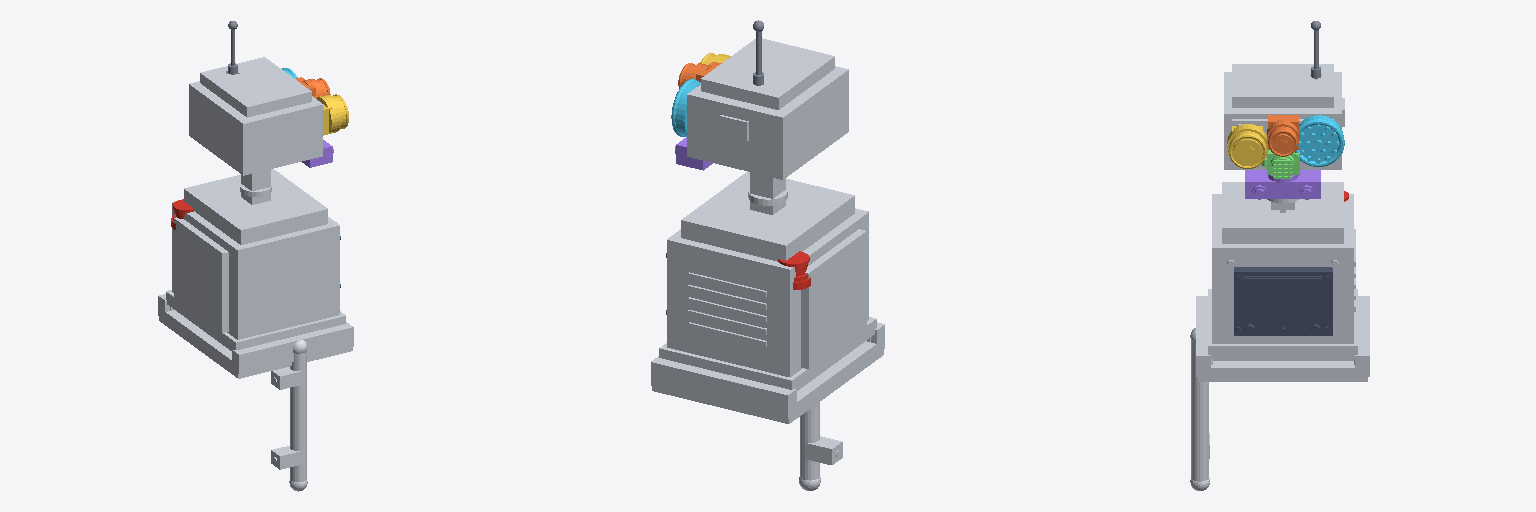
robot.urdf — bravebot:
<?xml version="1.0" ?>
<robot name="bravebot">
  <link name="base_link">
    <visual>
      <origin xyz="0 0 0" rpy="0 0 0"/>
      <geometry>
        <mesh filename="../meshes/tron1/base_Link.stl"/>
      </geometry>
      <material name="base_link_mat">
        <color rgba="0.8 0.82 0.86 1"/>
      </material>
    </visual>
    <collision>
      <origin xyz="0 0 0" rpy="0 0 0"/>
      <geometry>
        <mesh filename="../meshes/tron1/base_Link.stl"/>
      </geometry>
    </collision>
    <inertial>
      <origin xyz="0.04576 0.00014 -0.16398" rpy="0 0 0"/>
      <mass value="9.5850"/>
      <inertia ixx="0.140110" iyy="0.110641" izz="0.098945" ixy="0.000535" ixz="0.028184" iyz="-0.000027"/>
    </inertial>
  </link>
  <link name="abadL_link">
    <visual>
      <origin xyz="0 0 0" rpy="0 0 0"/>
      <geometry>
        <mesh filename="../meshes/tron1/abad_L_Link.stl"/>
      </geometry>
      <material name="abadL_link_mat">
        <color rgba="0.6 0.64 0.7 1"/>
      </material>
    </visual>
    <collision>
      <origin xyz="0 0 0" rpy="0 0 0"/>
      <geometry>
        <mesh filename="../meshes/tron1/abad_L_Link.stl"/>
      </geometry>
    </collision>
    <inertial>
      <origin xyz="-0.06977 0.04479 0.00057" rpy="0 0 0"/>
      <mass value="1.4690"/>
      <inertia ixx="0.001555" iyy="0.002359" izz="0.002081" ixy="0.000398" ixz="-0.000013" iyz="-0.000001"/>
    </inertial>
  </link>
  <joint name="abad_L" type="revolute">
    <parent link="base_link"/>
    <child link="abadL_link"/>
    <origin xyz="0.05556 0.105 -0.2602" rpy="0 0 0"/>
    <axis xyz="1 0 0"/>
    <limit lower="-0.38397" upper="1.39626" effort="80" velocity="15"/>
  </joint>
  <link name="hipL_link">
    <visual>
      <origin xyz="0 0 0" rpy="0 0 0"/>
      <geometry>
        <mesh filename="../meshes/tron1/hip_L_Link.stl"/>
      </geometry>
      <material name="hipL_link_mat">
        <color rgba="0.6 0.64 0.7 1"/>
      </material>
    </visual>
    <collision>
      <origin xyz="0 0 0" rpy="0 0 0"/>
      <geometry>
        <mesh filename="../meshes/tron1/hip_L_Link.stl"/>
      </geometry>
    </collision>
    <inertial>
      <origin xyz="-0.02869 -0.0477 -0.03992" rpy="0 0 0"/>
      <mass value="2.3000"/>
      <inertia ixx="0.016937" iyy="0.022853" izz="0.009334" ixy="0.001647" ixz="-0.009233" iyz="0.002202"/>
    </inertial>
  </link>
  <joint name="hip_L" type="revolute">
    <parent link="abadL_link"/>
    <child link="hipL_link"/>
    <origin xyz="-0.077 0.0205 0" rpy="0 0 0"/>
    <axis xyz="0 1 0"/>
    <limit lower="-1.01229" upper="1.39626" effort="80" velocity="15"/>
  </joint>
  <link name="kneeL_link">
    <visual>
      <origin xyz="0 0 0" rpy="0 0 0"/>
      <geometry>
        <mesh filename="../meshes/tron1/knee_L_Link.stl"/>
      </geometry>
      <material name="kneeL_link_mat">
        <color rgba="0.6 0.64 0.7 1"/>
      </material>
    </visual>
    <collision>
      <origin xyz="0 0 0" rpy="0 0 0"/>
      <geometry>
        <mesh filename="../meshes/tron1/knee_L_Link.stl"/>
      </geometry>
    </collision>
    <inertial>
      <origin xyz="0.11913 0.01106 -0.20363" rpy="0 0 0"/>
      <mass value="1.4900"/>
      <inertia ixx="0.013233" iyy="0.017661" izz="0.005017" ixy="-0.000435" ixz="0.006936" iyz="0.000791"/>
    </inertial>
  </link>
  <joint name="knee_L" type="revolute">
    <parent link="hipL_link"/>
    <child link="kneeL_link"/>
    <origin xyz="-0.15 -0.0205 -0.25981" rpy="0 0 0"/>
    <axis xyz="0 -1 0"/>
    <limit lower="-0.87267" upper="1.36136" effort="80" velocity="15"/>
  </joint>
  <link name="wheelL_link">
    <visual>
      <origin xyz="0 0 0" rpy="0 0 0"/>
      <geometry>
        <mesh filename="../meshes/tron1/wheel_L_Link.stl"/>
      </geometry>
      <material name="wheelL_link_mat">
        <color rgba="0.25 0.27 0.30 1"/>
      </material>
    </visual>
    <collision>
      <origin xyz="0 0 0" rpy="0 0 0"/>
      <geometry>
        <mesh filename="../meshes/tron1/wheel_L_Link.stl"/>
      </geometry>
    </collision>
    <inertial>
      <origin xyz="3e-05 0.00807 -2e-05" rpy="0 0 0"/>
      <mass value="1.0800"/>
      <inertia ixx="0.005155" iyy="0.009743" izz="0.005154" ixy="0.000000" ixz="-0.000001" iyz="0.000000"/>
    </inertial>
  </link>
  <joint name="wheel_L" type="continuous">
    <parent link="kneeL_link"/>
    <child link="wheelL_link"/>
    <origin xyz="0.15 0.0435 -0.25981" rpy="0 0 0"/>
    <axis xyz="0 1 0"/>
    <limit effort="40" velocity="40"/>
  </joint>
  <link name="abadR_link">
    <visual>
      <origin xyz="0 0 0" rpy="0 0 0"/>
      <geometry>
        <mesh filename="../meshes/tron1/abad_R_Link.stl"/>
      </geometry>
      <material name="abadR_link_mat">
        <color rgba="0.6 0.64 0.7 1"/>
      </material>
    </visual>
    <collision>
      <origin xyz="0 0 0" rpy="0 0 0"/>
      <geometry>
        <mesh filename="../meshes/tron1/abad_R_Link.stl"/>
      </geometry>
    </collision>
    <inertial>
      <origin xyz="-0.06977 -0.04479 0.00057" rpy="0 0 0"/>
      <mass value="1.4690"/>
      <inertia ixx="0.001555" iyy="0.002359" izz="0.002081" ixy="-0.000398" ixz="-0.000013" iyz="0.000001"/>
    </inertial>
  </link>
  <joint name="abad_R" type="revolute">
    <parent link="base_link"/>
    <child link="abadR_link"/>
    <origin xyz="0.05556 -0.105 -0.2602" rpy="0 0 0"/>
    <axis xyz="1 0 0"/>
    <limit lower="-1.39626" upper="0.38397" effort="80" velocity="15"/>
  </joint>
  <link name="hipR_link">
    <visual>
      <origin xyz="0 0 0" rpy="0 0 0"/>
      <geometry>
        <mesh filename="../meshes/tron1/hip_R_Link.stl"/>
      </geometry>
      <material name="hipR_link_mat">
        <color rgba="0.6 0.64 0.7 1"/>
      </material>
    </visual>
    <collision>
      <origin xyz="0 0 0" rpy="0 0 0"/>
      <geometry>
        <mesh filename="../meshes/tron1/hip_R_Link.stl"/>
      </geometry>
    </collision>
    <inertial>
      <origin xyz="-0.02869 0.0477 -0.03992" rpy="0 0 0"/>
      <mass value="2.3000"/>
      <inertia ixx="0.016937" iyy="0.022853" izz="0.009334" ixy="-0.001647" ixz="-0.009233" iyz="-0.002202"/>
    </inertial>
  </link>
  <joint name="hip_R" type="revolute">
    <parent link="abadR_link"/>
    <child link="hipR_link"/>
    <origin xyz="-0.077 -0.0205 0" rpy="0 0 0"/>
    <axis xyz="0 -1 0"/>
    <limit lower="-1.39626" upper="1.01229" effort="80" velocity="15"/>
  </joint>
  <link name="kneeR_link">
    <visual>
      <origin xyz="0 0 0" rpy="0 0 0"/>
      <geometry>
        <mesh filename="../meshes/tron1/knee_R_Link.stl"/>
      </geometry>
      <material name="kneeR_link_mat">
        <color rgba="0.6 0.64 0.7 1"/>
      </material>
    </visual>
    <collision>
      <origin xyz="0 0 0" rpy="0 0 0"/>
      <geometry>
        <mesh filename="../meshes/tron1/knee_R_Link.stl"/>
      </geometry>
    </collision>
    <inertial>
      <origin xyz="0.11913 -0.01106 -0.20363" rpy="0 0 0"/>
      <mass value="1.4900"/>
      <inertia ixx="0.013233" iyy="0.017661" izz="0.005017" ixy="0.000435" ixz="0.006936" iyz="-0.000791"/>
    </inertial>
  </link>
  <joint name="knee_R" type="revolute">
    <parent link="hipR_link"/>
    <child link="kneeR_link"/>
    <origin xyz="-0.15 0.0205 -0.25981" rpy="0 0 0"/>
    <axis xyz="0 1 0"/>
    <limit lower="-1.36136" upper="0.87267" effort="80" velocity="15"/>
  </joint>
  <link name="wheelR_link">
    <visual>
      <origin xyz="0 0 0" rpy="0 0 0"/>
      <geometry>
        <mesh filename="../meshes/tron1/wheel_R_Link.stl"/>
      </geometry>
      <material name="wheelR_link_mat">
        <color rgba="0.25 0.27 0.30 1"/>
      </material>
    </visual>
    <collision>
      <origin xyz="0 0 0" rpy="0 0 0"/>
      <geometry>
        <mesh filename="../meshes/tron1/wheel_R_Link.stl"/>
      </geometry>
    </collision>
    <inertial>
      <origin xyz="3e-05 -0.00807 -2e-05" rpy="0 0 0"/>
      <mass value="1.0800"/>
      <inertia ixx="0.005155" iyy="0.009743" izz="0.005154" ixy="0.000000" ixz="-0.000001" iyz="0.000000"/>
    </inertial>
  </link>
  <joint name="wheel_R" type="continuous">
    <parent link="kneeR_link"/>
    <child link="wheelR_link"/>
    <origin xyz="0.15 -0.0435 -0.25981" rpy="0 0 0"/>
    <axis xyz="0 1 0"/>
    <limit effort="40" velocity="40"/>
  </joint>
  <link name="payload_link">
    <visual>
      <origin xyz="0 0 0" rpy="0 0 0"/>
      <geometry>
        <mesh filename="../meshes/bravebot/payload.stl"/>
      </geometry>
      <material name="payload_link_mat">
        <color rgba="0.86 0.88 0.92 1"/>
      </material>
    </visual>
    <collision>
      <origin xyz="0 0 0" rpy="0 0 0"/>
      <geometry>
        <mesh filename="../meshes/bravebot/payload.stl"/>
      </geometry>
    </collision>
    <inertial>
      <origin xyz="0 0 0" rpy="0 0 0"/>
      <mass value="2.2000"/>
      <inertia ixx="0.02553" iyy="0.01720" izz="0.04133" ixy="0" ixz="0" iyz="0"/>
    </inertial>
  </link>
  <joint name="payload_mount" type="fixed">
    <parent link="base_link"/>
    <child link="payload_link"/>
    <origin xyz="0.02 0 0.045" rpy="0 0 0"/>
  </joint>
  <link name="torso_link">
    <visual>
      <origin xyz="0 0 0" rpy="0 0 0"/>
      <geometry>
        <mesh filename="../meshes/bravebot/torso.stl"/>
      </geometry>
      <material name="torso_link_mat">
        <color rgba="0.86 0.88 0.92 1"/>
      </material>
    </visual>
    <collision>
      <origin xyz="0 0 0" rpy="0 0 0"/>
      <geometry>
        <mesh filename="../meshes/bravebot/torso.stl"/>
      </geometry>
    </collision>
    <inertial>
      <origin xyz="0 0 0" rpy="0 0 0"/>
      <mass value="4.0000"/>
      <inertia ixx="0.06265" iyy="0.05714" izz="0.06275" ixy="0" ixz="0" iyz="0"/>
    </inertial>
  </link>
  <joint name="torso_mount" type="fixed">
    <parent link="base_link"/>
    <child link="torso_link"/>
    <origin xyz="0.02 0 0.215" rpy="0 0 0"/>
  </joint>
  <link name="railL_link">
    <visual>
      <origin xyz="0 0 0" rpy="0 0 0"/>
      <geometry>
        <mesh filename="../meshes/bravebot/railL.stl"/>
      </geometry>
      <material name="railL_link_mat">
        <color rgba="0.86 0.88 0.92 1"/>
      </material>
    </visual>
    <collision>
      <origin xyz="0 0 0" rpy="0 0 0"/>
      <geometry>
        <mesh filename="../meshes/bravebot/railL.stl"/>
      </geometry>
    </collision>
    <inertial>
      <origin xyz="0 0 0" rpy="0 0 0"/>
      <mass value="0.3000"/>
      <inertia ixx="0.00369" iyy="0.00382" izz="0.00022" ixy="0" ixz="0" iyz="0"/>
    </inertial>
  </link>
  <joint name="railL_mount" type="fixed">
    <parent link="base_link"/>
    <child link="railL_link"/>
    <origin xyz="0.03 0.176 -0.1" rpy="0 0 0"/>
  </joint>
  <link name="railR_link">
    <visual>
      <origin xyz="0 0 0" rpy="0 0 0"/>
      <geometry>
        <mesh filename="../meshes/bravebot/railR.stl"/>
      </geometry>
      <material name="railR_link_mat">
        <color rgba="0.86 0.88 0.92 1"/>
      </material>
    </visual>
    <collision>
      <origin xyz="0 0 0" rpy="0 0 0"/>
      <geometry>
        <mesh filename="../meshes/bravebot/railR.stl"/>
      </geometry>
    </collision>
    <inertial>
      <origin xyz="0 0 0" rpy="0 0 0"/>
      <mass value="0.3000"/>
      <inertia ixx="0.00369" iyy="0.00382" izz="0.00022" ixy="0" ixz="0" iyz="0"/>
    </inertial>
  </link>
  <joint name="railR_mount" type="fixed">
    <parent link="base_link"/>
    <child link="railR_link"/>
    <origin xyz="0.03 -0.176 -0.1" rpy="0 0 0"/>
  </joint>
  <link name="head_link">
    <visual>
      <origin xyz="0 0 0" rpy="0 0 0"/>
      <geometry>
        <mesh filename="../meshes/bravebot/head.stl"/>
      </geometry>
      <material name="head_link_mat">
        <color rgba="0.86 0.88 0.92 1"/>
      </material>
    </visual>
    <collision>
      <origin xyz="0 0 0" rpy="0 0 0"/>
      <geometry>
        <mesh filename="../meshes/bravebot/head.stl"/>
      </geometry>
    </collision>
    <inertial>
      <origin xyz="0 0 0" rpy="0 0 0"/>
      <mass value="0.6000"/>
      <inertia ixx="0.00456" iyy="0.00378" izz="0.00578" ixy="0" ixz="0" iyz="0"/>
    </inertial>
  </link>
  <joint name="head_mount" type="fixed">
    <parent link="base_link"/>
    <child link="head_link"/>
    <origin xyz="0.02 0 0.57" rpy="0 0 0"/>
  </joint>
  <link name="mast_link">
    <visual>
      <origin xyz="0 0 0" rpy="0 0 0"/>
      <geometry>
        <mesh filename="../meshes/bravebot/mast.stl"/>
      </geometry>
      <material name="mast_link_mat">
        <color rgba="0.86 0.88 0.92 1"/>
      </material>
    </visual>
    <collision>
      <origin xyz="0 0 0" rpy="0 0 0"/>
      <geometry>
        <mesh filename="../meshes/bravebot/mast.stl"/>
      </geometry>
    </collision>
    <inertial>
      <origin xyz="0 0 0" rpy="0 0 0"/>
      <mass value="0.7000"/>
      <inertia ixx="0.00261" iyy="0.00261" izz="0.00136" ixy="0" ixz="0" iyz="0"/>
    </inertial>
  </link>
  <joint name="mast_mount" type="fixed">
    <parent link="base_link"/>
    <child link="mast_link"/>
    <origin xyz="0.02 0 0.43" rpy="0 0 0"/>
  </joint>
  <link name="battery_link">
    <visual>
      <origin xyz="0 0 0" rpy="0 0 0"/>
      <geometry>
        <mesh filename="../meshes/bravebot/battery.stl"/>
      </geometry>
      <material name="battery_link_mat">
        <color rgba="0.95 0.55 0.18 1"/>
      </material>
    </visual>
    <collision>
      <origin xyz="0 0 0" rpy="0 0 0"/>
      <geometry>
        <mesh filename="../meshes/bravebot/battery.stl"/>
      </geometry>
    </collision>
    <inertial>
      <origin xyz="0 0 0" rpy="0 0 0"/>
      <mass value="2.6000"/>
      <inertia ixx="0.01810" iyy="0.01195" izz="0.01882" ixy="0" ixz="0" iyz="0"/>
    </inertial>
  </link>
  <joint name="battery_mount" type="fixed">
    <parent link="base_link"/>
    <child link="battery_link"/>
    <origin xyz="0.02 0 0.12" rpy="0 0 0"/>
  </joint>
  <link name="edgeai_link">
    <visual>
      <origin xyz="0 0 0" rpy="0 0 0"/>
      <geometry>
        <mesh filename="../meshes/bravebot/edgeai.stl"/>
      </geometry>
      <material name="edgeai_link_mat">
        <color rgba="0.34 0.38 0.46 1"/>
      </material>
    </visual>
    <collision>
      <origin xyz="0 0 0" rpy="0 0 0"/>
      <geometry>
        <mesh filename="../meshes/bravebot/edgeai.stl"/>
      </geometry>
    </collision>
    <inertial>
      <origin xyz="0 0 0" rpy="0 0 0"/>
      <mass value="0.9000"/>
      <inertia ixx="0.00427" iyy="0.00324" izz="0.00497" ixy="0" ixz="0" iyz="0"/>
    </inertial>
  </link>
  <joint name="edgeai_mount" type="fixed">
    <parent link="base_link"/>
    <child link="edgeai_link"/>
    <origin xyz="-0.03 0 0.22" rpy="0 0 0"/>
  </joint>
  <link name="display_link">
    <visual>
      <origin xyz="0 0 0" rpy="0 0 0"/>
      <geometry>
        <mesh filename="../meshes/bravebot/display.stl"/>
      </geometry>
      <material name="display_link_mat">
        <color rgba="0.34 0.38 0.46 1"/>
      </material>
    </visual>
    <collision>
      <origin xyz="0 0 0" rpy="0 0 0"/>
      <geometry>
        <mesh filename="../meshes/bravebot/display.stl"/>
      </geometry>
    </collision>
    <inertial>
      <origin xyz="0 0 0" rpy="0 0 0"/>
      <mass value="0.5000"/>
      <inertia ixx="0.00277" iyy="0.00101" izz="0.00191" ixy="0" ixz="0" iyz="0"/>
    </inertial>
  </link>
  <joint name="display_mount" type="fixed">
    <parent link="base_link"/>
    <child link="display_link"/>
    <origin xyz="0.165 0 0.215" rpy="0 0 0"/>
  </joint>
  <link name="rear_link">
    <visual>
      <origin xyz="0 0 0" rpy="0 0 0"/>
      <geometry>
        <mesh filename="../meshes/bravebot/rear.stl"/>
      </geometry>
      <material name="rear_link_mat">
        <color rgba="0.86 0.88 0.92 1"/>
      </material>
    </visual>
    <collision>
      <origin xyz="0 0 0" rpy="0 0 0"/>
      <geometry>
        <mesh filename="../meshes/bravebot/rear.stl"/>
      </geometry>
    </collision>
    <inertial>
      <origin xyz="0 0 0" rpy="0 0 0"/>
      <mass value="0.5000"/>
      <inertia ixx="0.00368" iyy="0.00191" izz="0.00226" ixy="0" ixz="0" iyz="0"/>
    </inertial>
  </link>
  <joint name="rear_mount" type="fixed">
    <parent link="base_link"/>
    <child link="rear_link"/>
    <origin xyz="-0.12 0 0.215" rpy="0 0 0"/>
  </joint>
  <link name="acoustic_link">
    <visual>
      <origin xyz="0 0 0" rpy="0 0 0"/>
      <geometry>
        <mesh filename="../meshes/bravebot/acoustic.stl"/>
      </geometry>
      <material name="acoustic_link_mat">
        <color rgba="0.36 0.85 1 1"/>
      </material>
    </visual>
    <collision>
      <origin xyz="0 0 0" rpy="0 0 0"/>
      <geometry>
        <mesh filename="../meshes/bravebot/acoustic.stl"/>
      </geometry>
    </collision>
    <inertial>
      <origin xyz="0 0 0" rpy="0 0 0"/>
      <mass value="0.4000"/>
      <inertia ixx="0.00084" iyy="0.00045" izz="0.00045" ixy="0" ixz="0" iyz="0"/>
    </inertial>
  </link>
  <joint name="acoustic_mount" type="fixed">
    <parent link="base_link"/>
    <child link="acoustic_link"/>
    <origin xyz="0.14 0.075 0.58" rpy="0 0 0"/>
  </joint>
  <link name="thermal_link">
    <visual>
      <origin xyz="0 0 0" rpy="0 0 0"/>
      <geometry>
        <mesh filename="../meshes/bravebot/thermal.stl"/>
      </geometry>
      <material name="thermal_link_mat">
        <color rgba="1 0.55 0.30 1"/>
      </material>
    </visual>
    <collision>
      <origin xyz="0 0 0" rpy="0 0 0"/>
      <geometry>
        <mesh filename="../meshes/bravebot/thermal.stl"/>
      </geometry>
    </collision>
    <inertial>
      <origin xyz="0 0 0" rpy="0 0 0"/>
      <mass value="0.3000"/>
      <inertia ixx="0.00025" iyy="0.00038" izz="0.00038" ixy="0" ixz="0" iyz="0"/>
    </inertial>
  </link>
  <joint name="thermal_mount" type="fixed">
    <parent link="base_link"/>
    <child link="thermal_link"/>
    <origin xyz="0.145 0 0.6" rpy="0 0 0"/>
  </joint>
  <link name="hdcam_link">
    <visual>
      <origin xyz="0 0 0" rpy="0 0 0"/>
      <geometry>
        <mesh filename="../meshes/bravebot/hdcam.stl"/>
      </geometry>
      <material name="hdcam_link_mat">
        <color rgba="1 0.85 0.35 1"/>
      </material>
    </visual>
    <collision>
      <origin xyz="0 0 0" rpy="0 0 0"/>
      <geometry>
        <mesh filename="../meshes/bravebot/hdcam.stl"/>
      </geometry>
    </collision>
    <inertial>
      <origin xyz="0 0 0" rpy="0 0 0"/>
      <mass value="0.3000"/>
      <inertia ixx="0.00039" iyy="0.00045" izz="0.00045" ixy="0" ixz="0" iyz="0"/>
    </inertial>
  </link>
  <joint name="hdcam_mount" type="fixed">
    <parent link="base_link"/>
    <child link="hdcam_link"/>
    <origin xyz="0.145 -0.075 0.58" rpy="0 0 0"/>
  </joint>
  <link name="gas_link">
    <visual>
      <origin xyz="0 0 0" rpy="0 0 0"/>
      <geometry>
        <mesh filename="../meshes/bravebot/gas.stl"/>
      </geometry>
      <material name="gas_link_mat">
        <color rgba="0.55 0.95 0.55 1"/>
      </material>
    </visual>
    <collision>
      <origin xyz="0 0 0" rpy="0 0 0"/>
      <geometry>
        <mesh filename="../meshes/bravebot/gas.stl"/>
      </geometry>
    </collision>
    <inertial>
      <origin xyz="0 0 0" rpy="0 0 0"/>
      <mass value="0.3000"/>
      <inertia ixx="0.00023" iyy="0.00022" izz="0.00030" ixy="0" ixz="0" iyz="0"/>
    </inertial>
  </link>
  <joint name="gas_mount" type="fixed">
    <parent link="base_link"/>
    <child link="gas_link"/>
    <origin xyz="0.14 0 0.535" rpy="0 0 0"/>
  </joint>
  <link name="nav_link">
    <visual>
      <origin xyz="0 0 0" rpy="0 0 0"/>
      <geometry>
        <mesh filename="../meshes/bravebot/nav.stl"/>
      </geometry>
      <material name="nav_link_mat">
        <color rgba="0.70 0.55 1 1"/>
      </material>
    </visual>
    <collision>
      <origin xyz="0 0 0" rpy="0 0 0"/>
      <geometry>
        <mesh filename="../meshes/bravebot/nav.stl"/>
      </geometry>
    </collision>
    <inertial>
      <origin xyz="0 0 0" rpy="0 0 0"/>
      <mass value="0.4000"/>
      <inertia ixx="0.00119" iyy="0.00054" izz="0.00105" ixy="0" ixz="0" iyz="0"/>
    </inertial>
  </link>
  <joint name="nav_mount" type="fixed">
    <parent link="base_link"/>
    <child link="nav_link"/>
    <origin xyz="0.145 0 0.48" rpy="0 0 0"/>
  </joint>
  <link name="antennaL_link">
    <visual>
      <origin xyz="0 0 0" rpy="0 0 0"/>
      <geometry>
        <mesh filename="../meshes/bravebot/antennaL.stl"/>
      </geometry>
      <material name="antennaL_link_mat">
        <color rgba="0.55 0.58 0.64 1"/>
      </material>
    </visual>
    <collision>
      <origin xyz="0 0 0" rpy="0 0 0"/>
      <geometry>
        <mesh filename="../meshes/bravebot/antennaL.stl"/>
      </geometry>
    </collision>
    <inertial>
      <origin xyz="0 0 0" rpy="0 0 0"/>
      <mass value="0.0500"/>
      <inertia ixx="0.00009" iyy="0.00009" izz="0.00001" ixy="0" ixz="0" iyz="0"/>
    </inertial>
  </link>
  <joint name="antennaL_mount" type="fixed">
    <parent link="base_link"/>
    <child link="antennaL_link"/>
    <origin xyz="0 0.07 0.71" rpy="0 0 0"/>
  </joint>
  <link name="antennaR_link">
    <visual>
      <origin xyz="0 0 0" rpy="0 0 0"/>
      <geometry>
        <mesh filename="../meshes/bravebot/antennaR.stl"/>
      </geometry>
      <material name="antennaR_link_mat">
        <color rgba="0.55 0.58 0.64 1"/>
      </material>
    </visual>
    <collision>
      <origin xyz="0 0 0" rpy="0 0 0"/>
      <geometry>
        <mesh filename="../meshes/bravebot/antennaR.stl"/>
      </geometry>
    </collision>
    <inertial>
      <origin xyz="0 0 0" rpy="0 0 0"/>
      <mass value="0.0500"/>
      <inertia ixx="0.00009" iyy="0.00009" izz="0.00001" ixy="0" ixz="0" iyz="0"/>
    </inertial>
  </link>
  <joint name="antennaR_mount" type="fixed">
    <parent link="base_link"/>
    <child link="antennaR_link"/>
    <origin xyz="0 -0.07 0.71" rpy="0 0 0"/>
  </joint>
  <link name="estop_link">
    <visual>
      <origin xyz="0 0 0" rpy="0 0 0"/>
      <geometry>
        <mesh filename="../meshes/bravebot/estop.stl"/>
      </geometry>
      <material name="estop_link_mat">
        <color rgba="0.90 0.25 0.20 1"/>
      </material>
    </visual>
    <collision>
      <origin xyz="0 0 0" rpy="0 0 0"/>
      <geometry>
        <mesh filename="../meshes/bravebot/estop.stl"/>
      </geometry>
    </collision>
    <inertial>
      <origin xyz="0 0 0" rpy="0 0 0"/>
      <mass value="0.1000"/>
      <inertia ixx="0.00006" iyy="0.00006" izz="0.00008" ixy="0" ixz="0" iyz="0"/>
    </inertial>
  </link>
  <joint name="estop_mount" type="fixed">
    <parent link="base_link"/>
    <child link="estop_link"/>
    <origin xyz="-0.1 0.11 0.31" rpy="0 0 0"/>
  </joint>
</robot>

--- What the picture shows (computed from the rendered views, not written in the file) ---
The picture shows the robot from 3 angles, left to right: view 1: azimuth 30°, elevation 25°; view 2: azimuth 150°, elevation 25°; view 3: azimuth 270°, elevation 25°; orthographic projection.
Robot: bravebot — 27 links, 26 joints (6 revolute, 2 continuous, 18 fixed); root link base_link; default pose: every joint at zero.
Links seen in each view (by area): view 1: torso_link, head_link, payload_link, rear_link, railR_link, hdcam_link, mast_link; view 2: torso_link, head_link, payload_link, rear_link, railR_link, mast_link, acoustic_link, estop_link, thermal_link; view 3: torso_link, head_link, display_link, payload_link, railR_link, acoustic_link, nav_link, hdcam_link, thermal_link, gas_link.
Link boxes in pixels (<box>): torso_link: <box>166,169,345,350</box>; head_link: <box>189,57,322,175</box>; payload_link: <box>158,294,353,378</box>; rear_link: <box>174,217,228,332</box>; railR_link: <box>271,338,307,491</box>; hdcam_link: <box>315,94,348,135</box>; mast_link: <box>240,169,271,204</box>; torso_link: <box>659,171,876,390</box>; head_link: <box>687,38,848,179</box>; payload_link: <box>651,322,884,423</box>; rear_link: <box>801,229,866,368</box>; railR_link: <box>799,402,842,490</box>; mast_link: <box>748,172,787,214</box>; acoustic_link: <box>671,79,700,136</box>; estop_link: <box>778,251,810,289</box>; thermal_link: <box>678,62,721,88</box>; torso_link: <box>1208,182,1357,358</box>; head_link: <box>1224,64,1344,169</box>; display_link: <box>1234,267,1332,335</box>; payload_link: <box>1196,296,1369,381</box>; railR_link: <box>1190,327,1209,490</box>; acoustic_link: <box>1295,115,1344,166</box>; nav_link: <box>1245,170,1320,199</box>; hdcam_link: <box>1227,124,1267,168</box>; thermal_link: <box>1267,115,1299,156</box>; gas_link: <box>1262,150,1299,178</box>.
Size in the robot's own frame: 0.339 by 0.381 by 1.09 metres.
16 mesh visuals loaded from 27 distinct referenced files (16 binary STL); not drawn: 11 (reference not matched to a file when rendering).
